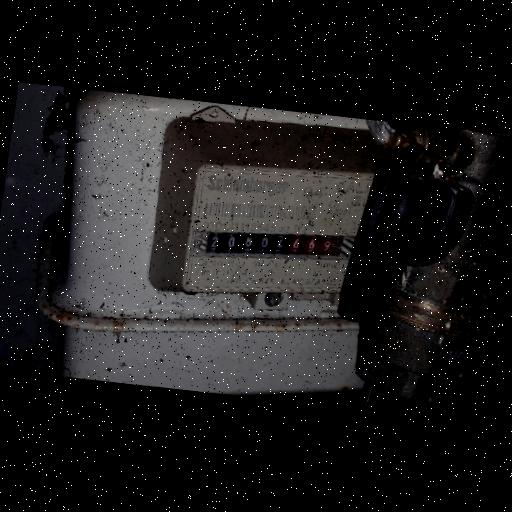0: (226, 235, 239, 251), (258, 236, 270, 253)
2: (208, 235, 220, 252)
4: (274, 237, 287, 253)
6: (305, 237, 318, 253), (289, 237, 301, 254)
8: (242, 236, 255, 252)
9: (320, 239, 333, 255)
border_water_meter_number: (204, 219, 346, 270)
